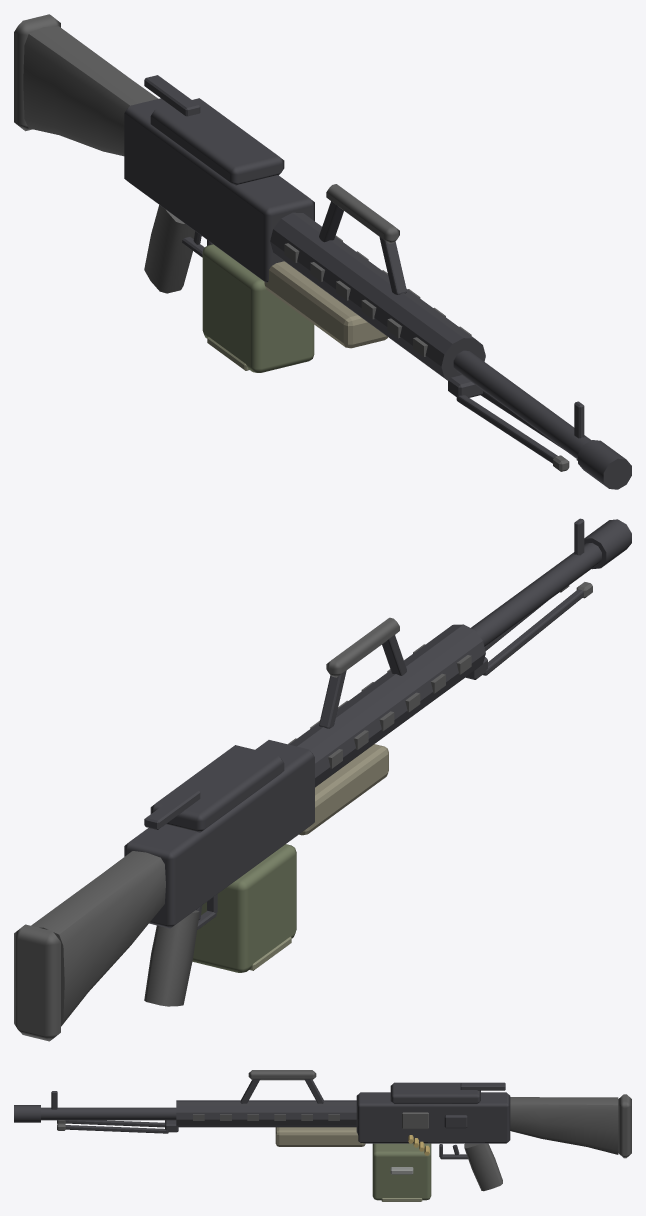
The model's file is lmg.glb.
3 renders of one model, top to bottom at view 1: azimuth 30°, elevation 25°; view 2: azimuth 150°, elevation 25°; view 3: azimuth 270°, elevation 25°, orthographic. The views are drawn at different scales.
Visible parts, largest first — view 1: lmg; view 2: lmg; view 3: lmg.
Part boxes in pixels (x1,y1,x2,y2): lmg: (14,14,631,489); lmg: (14,518,631,1041); lmg: (14,1070,631,1201).
Size of the model in its own units: 0.108 by 0.296 by 1.37.
